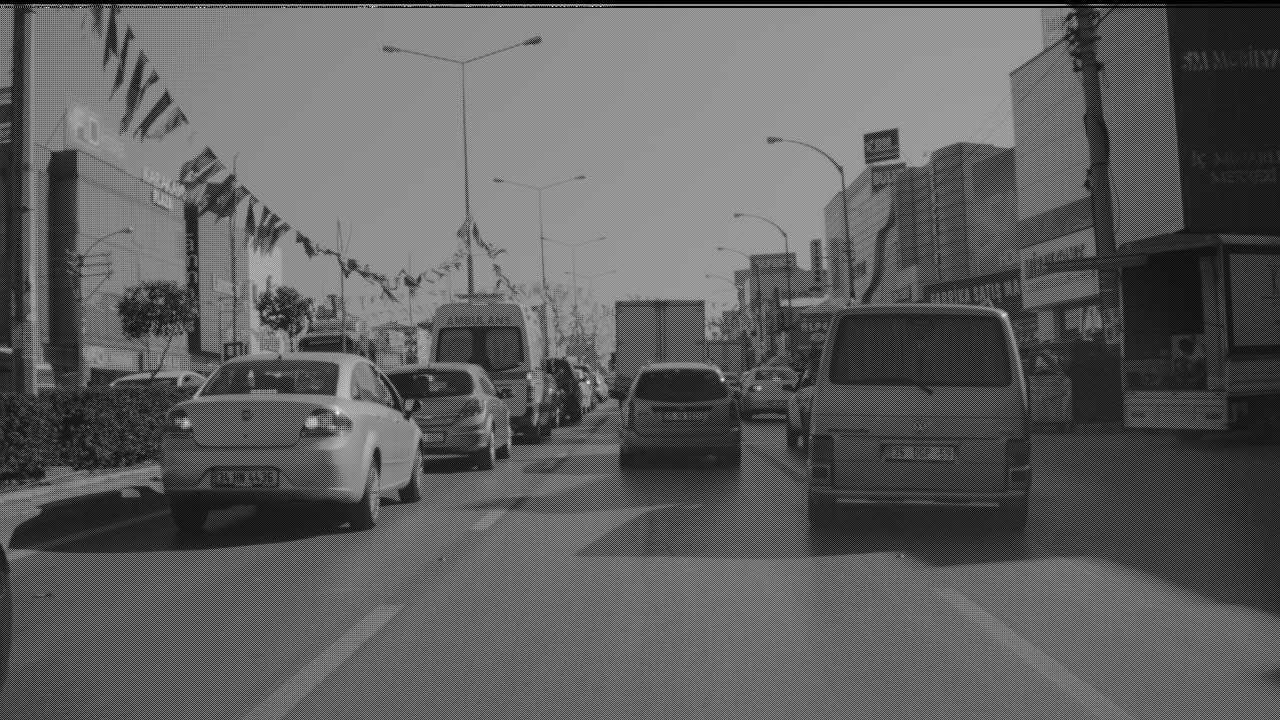pole: (1069, 1, 1126, 409), (459, 58, 474, 295), (839, 164, 855, 296), (784, 227, 790, 358)
